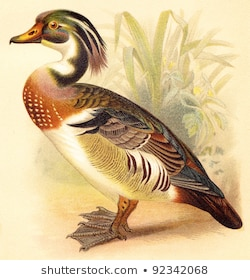duck: (4, 6, 247, 254)
